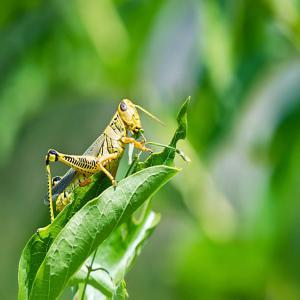locust: (31, 77, 162, 225)
